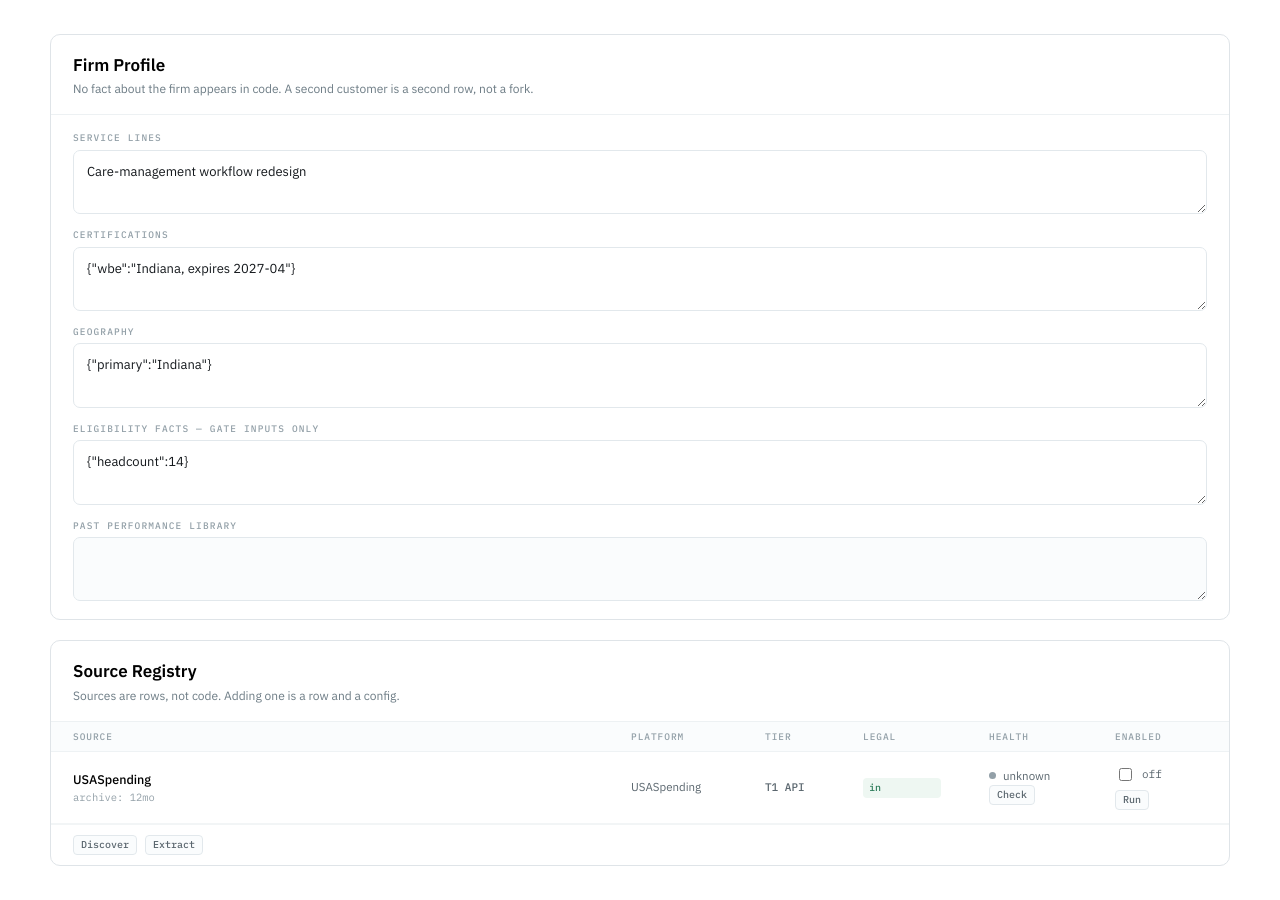
Test: a non-2xx from Run surfaces the server's error in that row, not swallowed
Click the button with aria-label "run usaspending": x=1132, y=800 [1115, 790, 1149, 810]
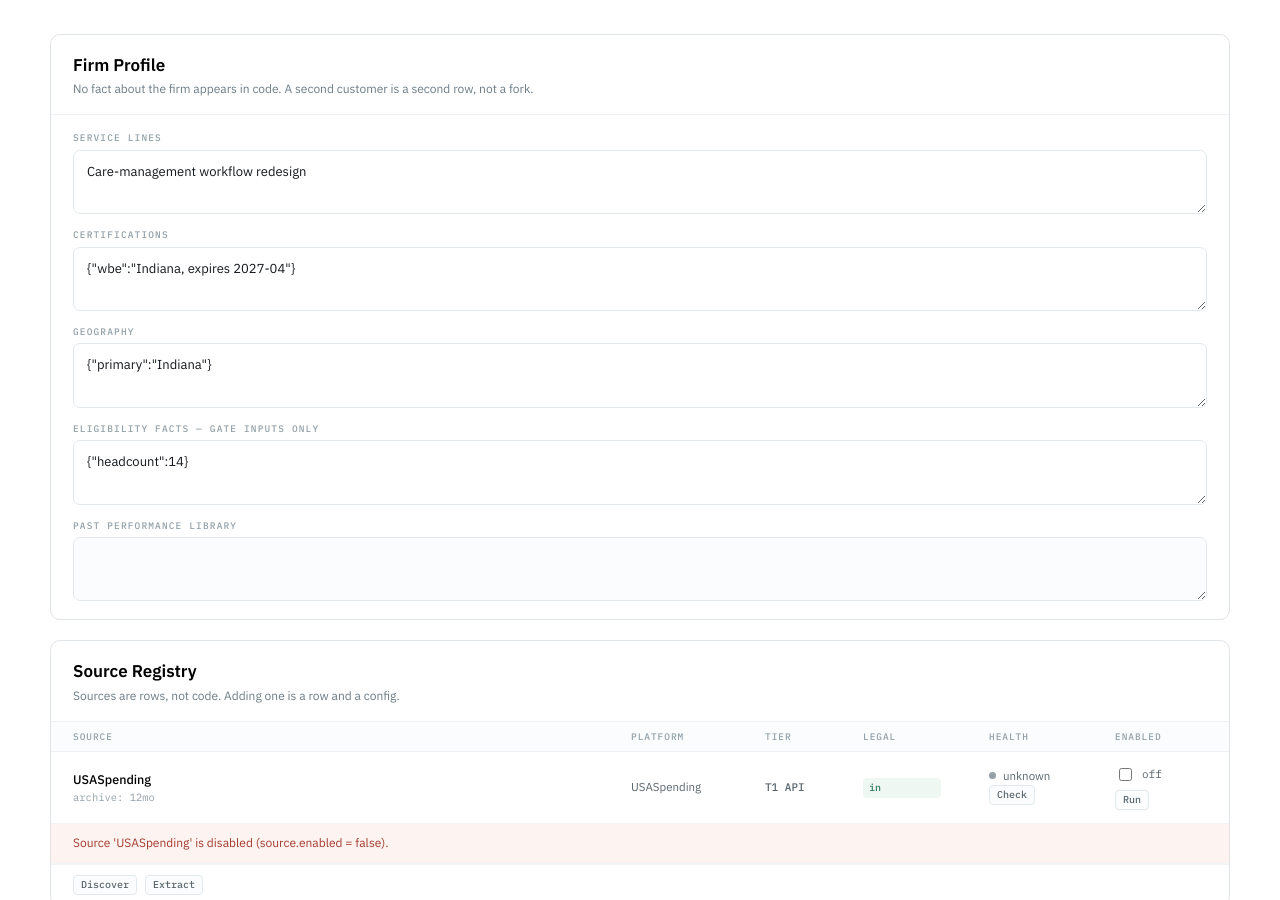
Expected: the message shows "disabled", [73, 835, 389, 850]
